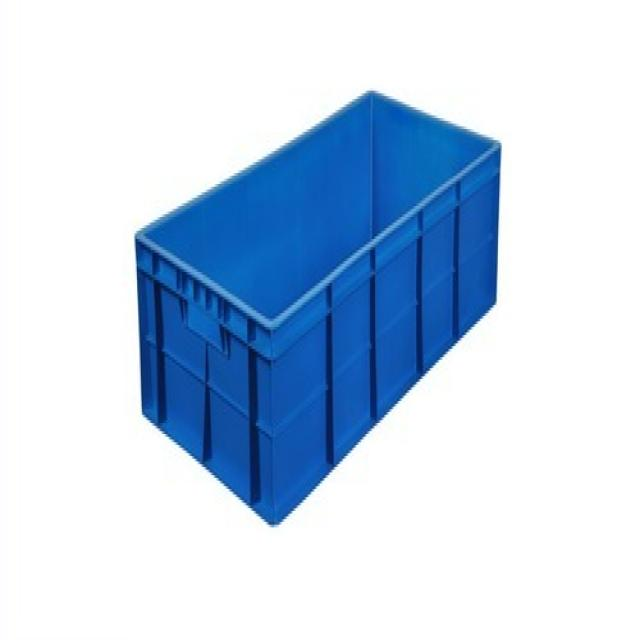basket: (51, 9, 577, 536)
